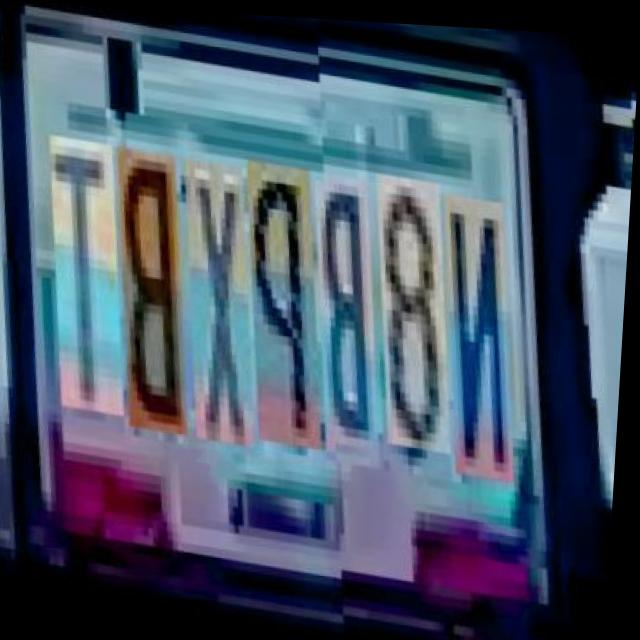8: (360, 174, 458, 452)
b: (100, 148, 195, 437), (299, 176, 387, 453)
n: (428, 193, 523, 481)
p: (231, 157, 329, 445)
t: (33, 140, 131, 418)
x: (167, 157, 262, 446)
